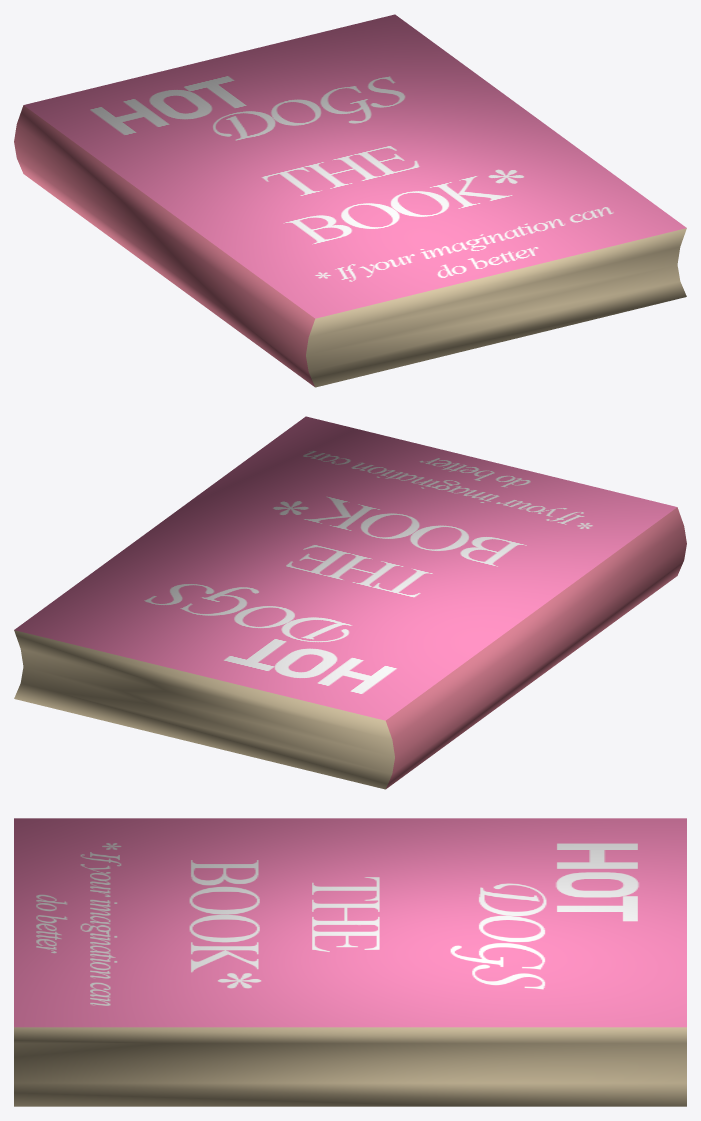
The model's file is PROP_Book.fbx.
3 views of the same model, one above another, from view 1: azimuth 30°, elevation 25°; view 2: azimuth 150°, elevation 25°; view 3: azimuth 270°, elevation 25° (orthographic). The views are drawn at different scales.
Visible parts, largest first — view 1: Book; view 2: Book; view 3: Book.
Part boxes in pixels (left/top/right/bottom): Book: left=14, top=14, right=686, bottom=387; Book: left=14, top=416, right=686, bottom=789; Book: left=14, top=818, right=686, bottom=1106.
Size of the model in its own units: 0.2158 by 0.0372 by 0.2862.
2 materials, 1 textured.
